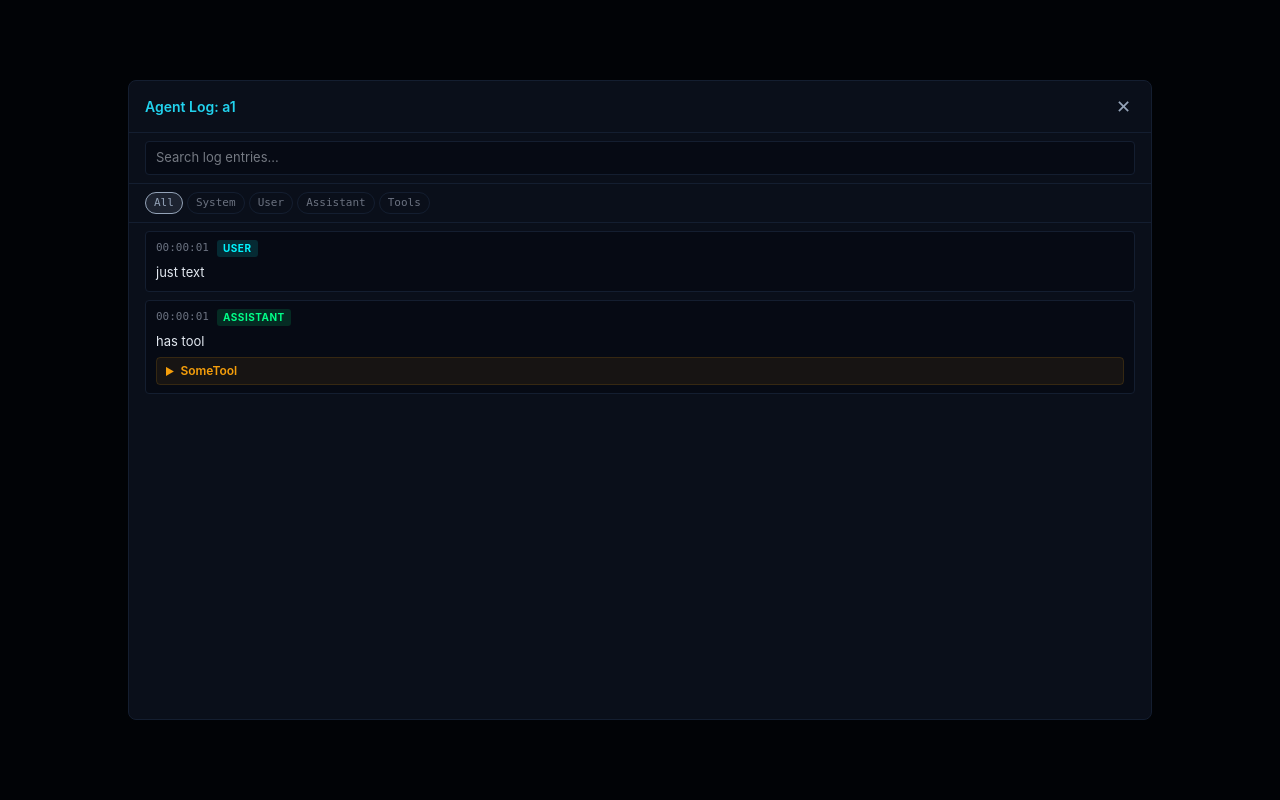
Test: LogViewer › filters by tools tab (only entries with toolCalls)
Click the button "Tools" at (404, 203), box [379,192,430,214]
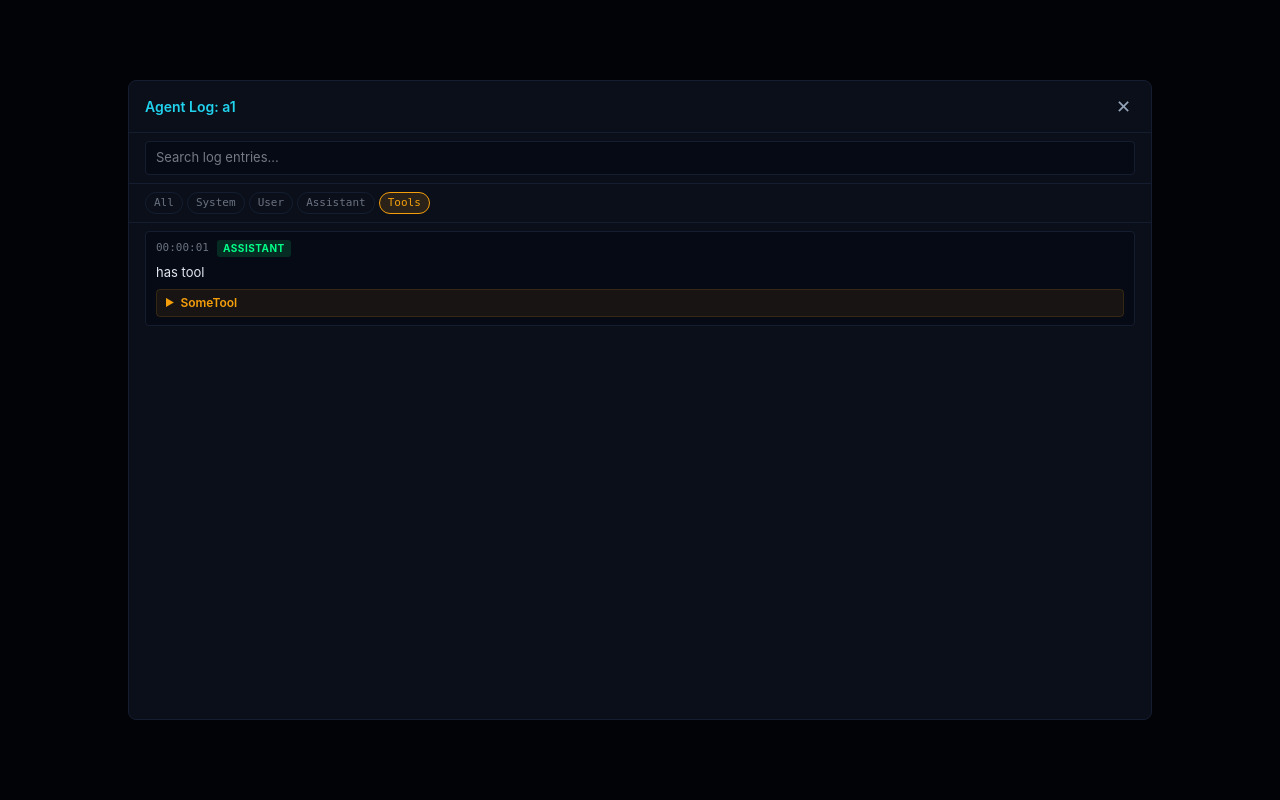
Expected: the button "▶ SomeTool" is shown, [157,290,1123,316]
Now the text "just text" is gone
